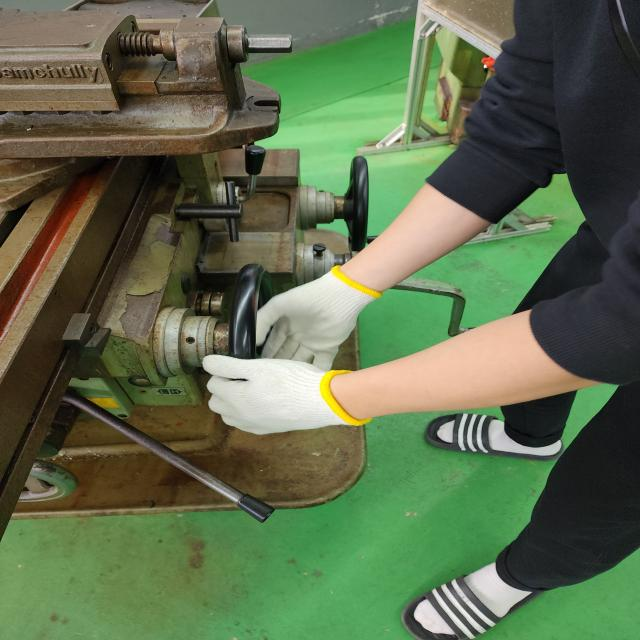Boots: (194, 245, 395, 368), (186, 348, 397, 449)
